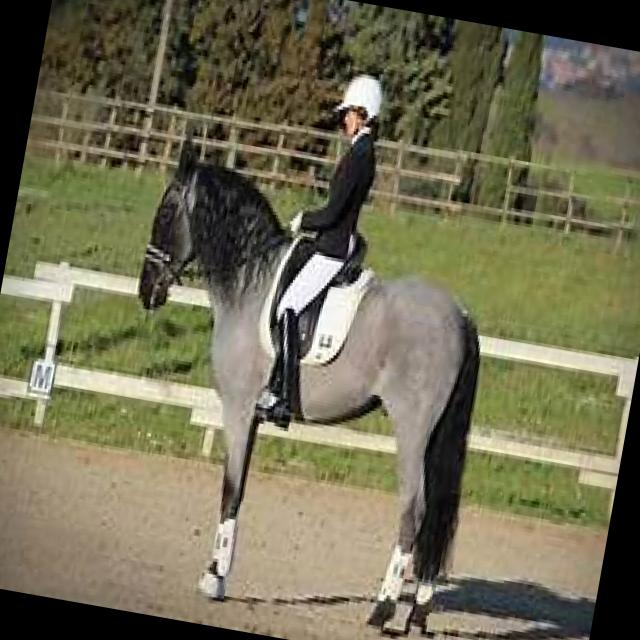horse: (25, 107, 583, 640)
